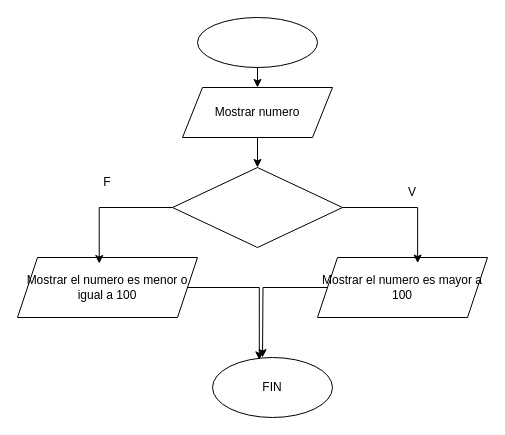
The diagram is 505 pixels wide and 435 high, and some of its shapes have lost their labels. Here are the shapes that lost their labels. From the top down, the centre of each, then its label:
At point (257, 42): "Inicio".
At point (257, 207): "numero > 100".
